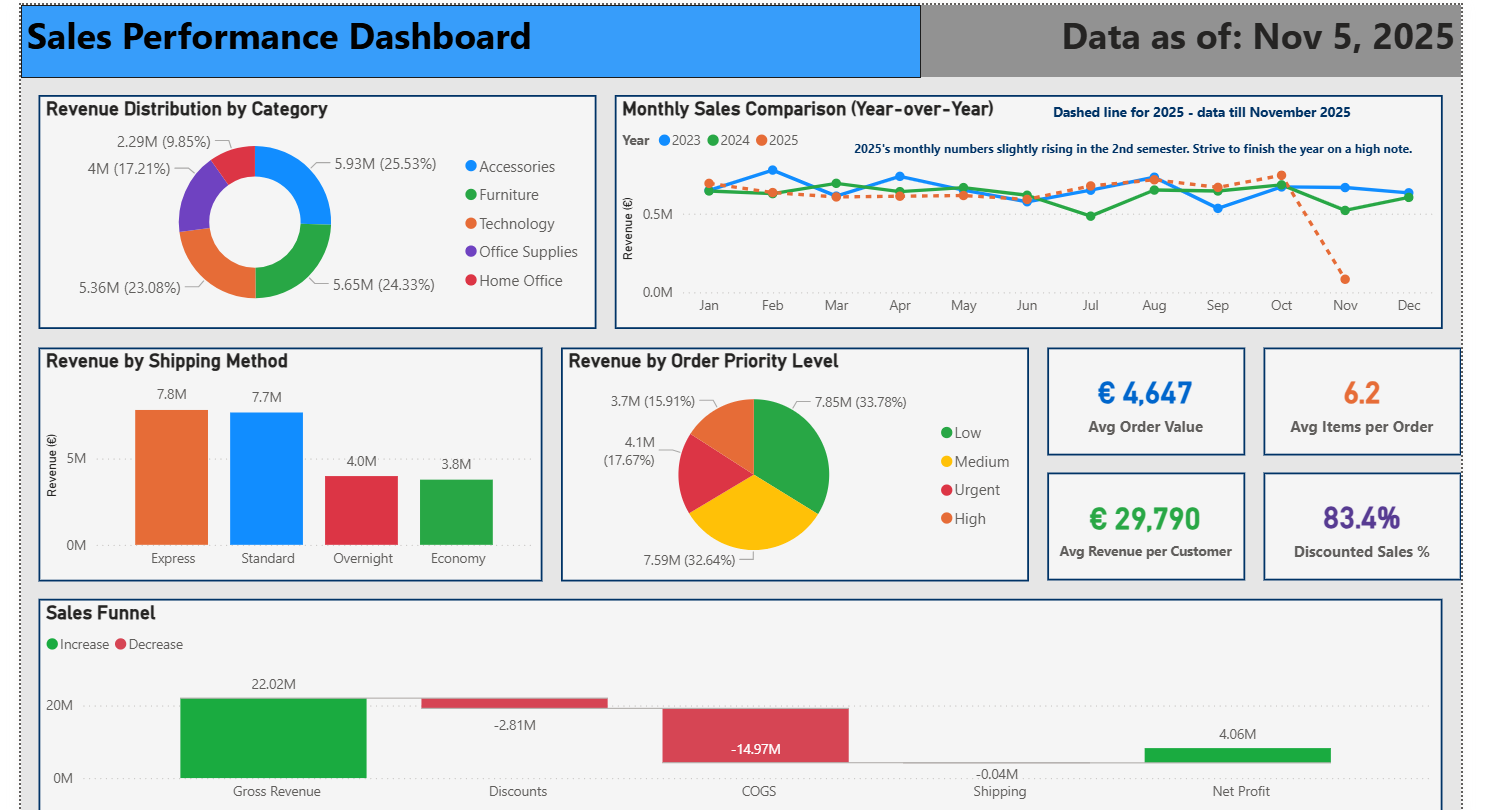

Layout of this report page (visuals, bound fields, positions):
{"tool":"powerbi","page":{"name":"Sales Perofrmance","canvas":[1280,720],"ordinal":1},"visuals":[{"type":"textbox","box":[0,0,800,64],"z":0},{"type":"textbox","box":[800,0,480,64],"z":1000},{"type":"donutChart","title":"Revenue Distribution by Category","fields":{"Y":["fact_sales.Total Revenue"],"Category":["fact_sales.product_category"]},"box":[16,80,496,208],"z":2000},{"type":"lineChart","title":"Monthly Sales Comparison (Year-over-Year)","fields":{"Category":["Sort month name short.month_name_short"],"Y":["fact_sales.Total Revenue"],"Series":["dim_date.year"]},"box":[528,80,736,208],"z":3000},{"type":"clusteredColumnChart","title":"Revenue by Shipping Method","fields":{"Category":["fact_sales.ship_mode"],"Y":["fact_sales.Total Revenue"]},"box":[16,304,448,208],"z":4000},{"type":"pieChart","title":"Revenue by Order Priority Level","fields":{"Category":["fact_sales.order_priority"],"Y":["fact_sales.Total Revenue"]},"box":[480,304,416,208],"z":5000},{"type":"card","fields":{"Values":["fact_sales.Avg Order Value"]},"box":[912,304,176,96],"z":6000},{"type":"card","fields":{"Values":["fact_sales.Avg Revenue per Customer"]},"box":[912,416,176,96],"z":7000},{"type":"card","fields":{"Values":["fact_sales.Avg Items per Order"]},"box":[1104,304,176,96],"z":8000},{"type":"card","fields":{"Values":["fact_sales.Discounted Sales %"]},"box":[1104,416,176,96],"z":9000},{"type":"waterfallChart","title":"Sales Funnel","fields":{"Category":["Waterfall Steps.Step"],"Y":["Waterfall measures.Waterfall Value"]},"box":[16,528,1248,192],"z":10000},{"type":"textbox","box":[912,80,304,32],"z":11000},{"type":"textbox","box":[736,112,512,32],"z":12000}]}

Visuals, with their boxes in screenshot pixels (x1, y1, x2, y2):
textbox: box(19, 8, 905, 79)
textbox: box(905, 8, 1436, 79)
"Revenue Distribution by Category" donutChart: box(37, 96, 586, 327)
"Monthly Sales Comparison (Year-over-Year)" lineChart: box(604, 96, 1419, 327)
"Revenue by Shipping Method" clusteredColumnChart: box(37, 344, 533, 575)
"Revenue by Order Priority Level" pieChart: box(551, 344, 1011, 575)
card - fact_sales.Avg Order Value: box(1029, 344, 1224, 451)
card - fact_sales.Avg Revenue per Customer: box(1029, 468, 1224, 575)
card - fact_sales.Avg Items per Order: box(1242, 344, 1436, 451)
card - fact_sales.Discounted Sales %: box(1242, 468, 1436, 575)
"Sales Funnel" waterfallChart: box(37, 592, 1419, 805)
textbox: box(1029, 96, 1366, 132)
textbox: box(834, 132, 1401, 167)
